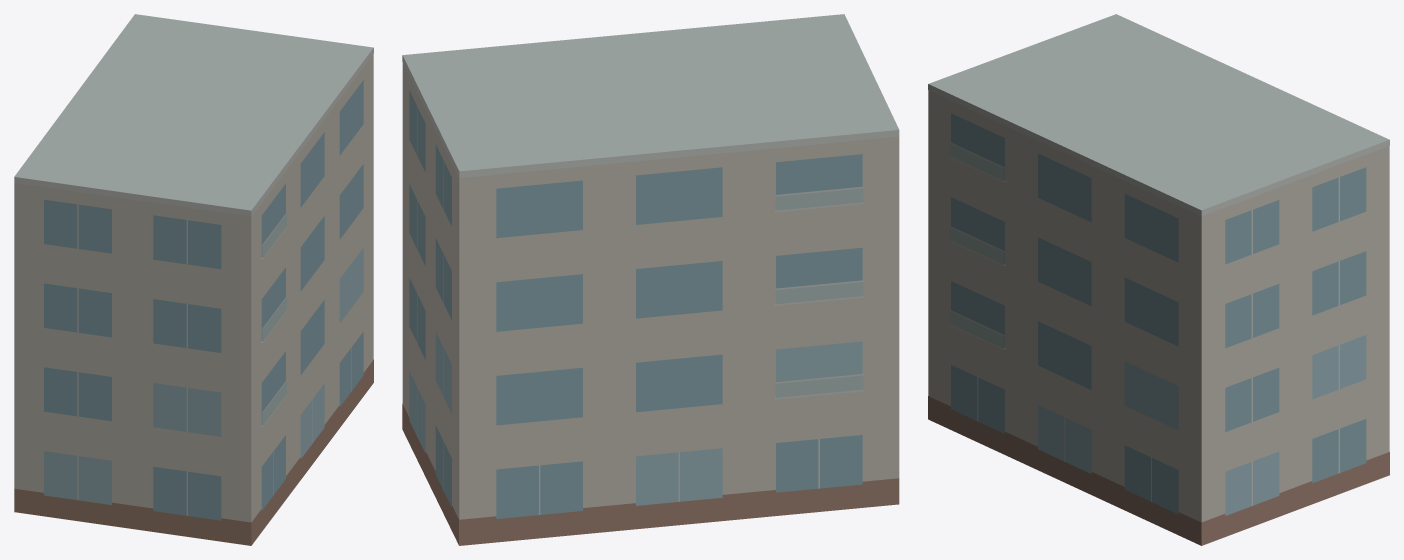
File: survey-upis-32944608.glb
3 views of the same model, side by side, from view 1: azimuth 30°, elevation 25°; view 2: azimuth 150°, elevation 25°; view 3: azimuth 270°, elevation 25° (orthographic). The views are drawn at different scales.
Parts seen in each view (by area): view 1: survey-upis-32944608.tmp; view 2: survey-upis-32944608.tmp; view 3: survey-upis-32944608.tmp.
Boxes of the visible parts, x1=… form: survey-upis-32944608.tmp: x1=14, y1=14, x2=373, y2=545; survey-upis-32944608.tmp: x1=402, y1=14, x2=899, y2=545; survey-upis-32944608.tmp: x1=928, y1=14, x2=1389, y2=545.
Bounding box in the file's own units: 17.15 × 13.65 × 17.03.
